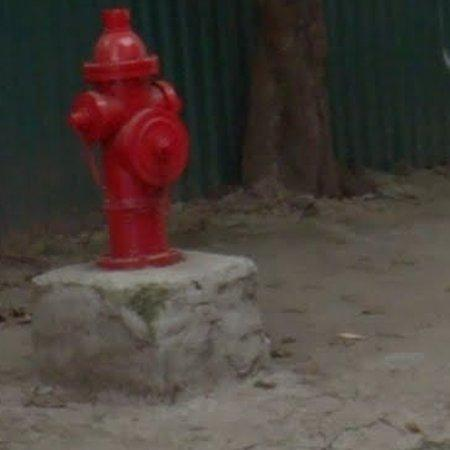a fire hydrant: (68, 8, 189, 270)
